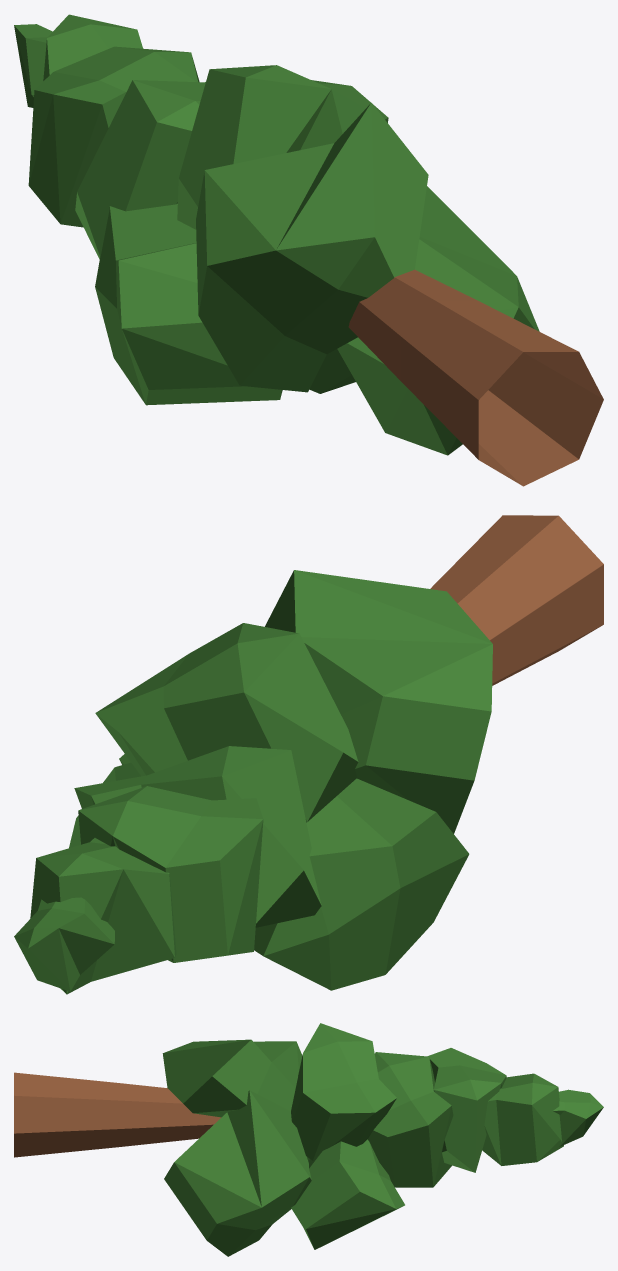
File: SM_Tree3Rotated.FBX
The picture shows the model from 3 angles, top to bottom: view 1: azimuth 30°, elevation 25°; view 2: azimuth 150°, elevation 25°; view 3: azimuth 270°, elevation 25°; orthographic projection. The views are drawn at different scales.
Parts seen in each view (by area): view 1: SM_Tree3; view 2: SM_Tree3; view 3: SM_Tree3.
Part boxes in pixels (bbox=[...]): SM_Tree3: bbox=[14, 14, 603, 486]; SM_Tree3: bbox=[14, 515, 603, 994]; SM_Tree3: bbox=[14, 1023, 603, 1256].
Bounding box in the file's own units: 65.03 × 158 × 59.68.
